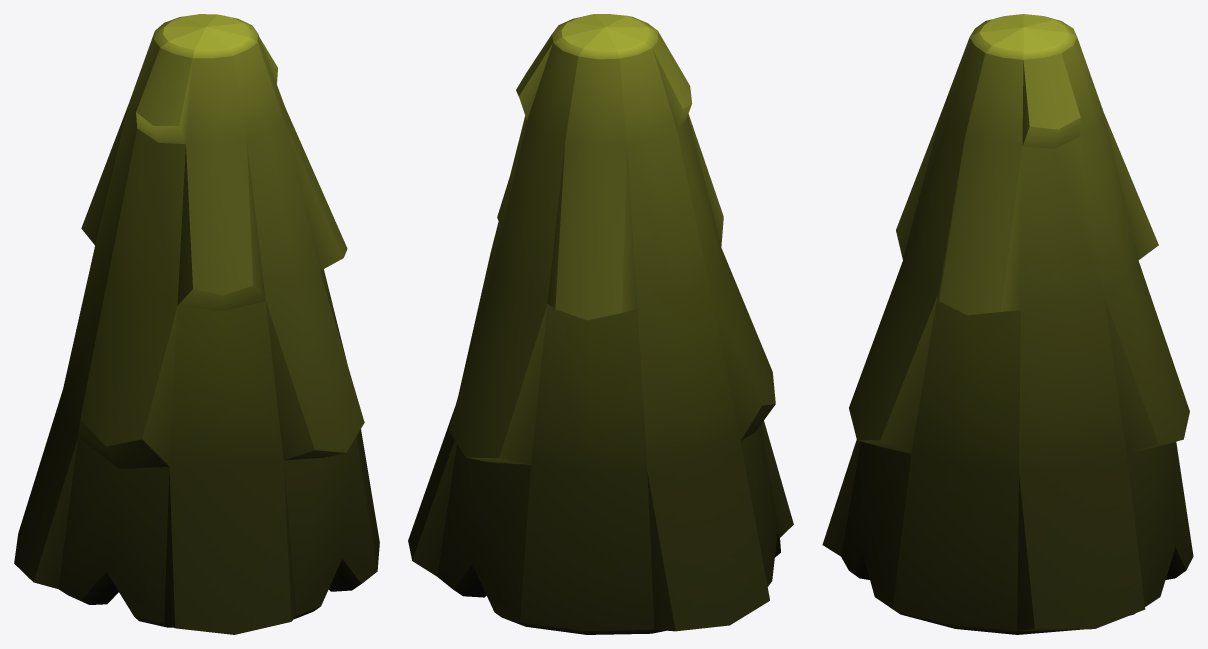
The model's file is Leaves_04A.fbx.
3 views of the same model, side by side, from view 1: azimuth 30°, elevation 25°; view 2: azimuth 150°, elevation 25°; view 3: azimuth 270°, elevation 25° (orthographic).
Visible parts, largest first — view 1: Leaves_04A; view 2: Leaves_04A; view 3: Leaves_04A.
Boxes of the visible parts, x1,y1,x2,y2 form: Leaves_04A: (14,14,379,634); Leaves_04A: (408,14,793,634); Leaves_04A: (822,14,1193,634).
Size of the model in its own units: 468 by 715 by 442.
